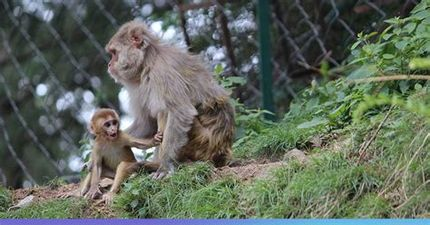monkey: (99, 9, 328, 187), (84, 104, 184, 193)
